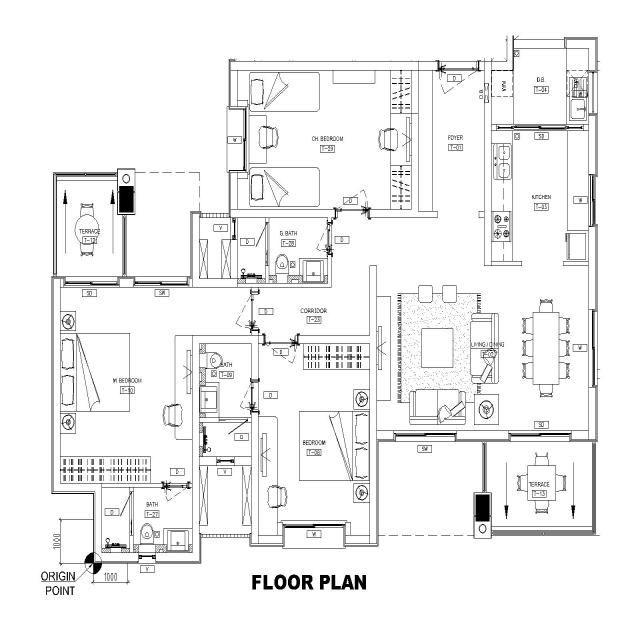Column: (118, 184, 135, 214), (474, 493, 491, 523)
Door: (435, 60, 481, 72), (333, 208, 371, 220), (262, 334, 300, 346), (250, 289, 260, 333), (250, 378, 260, 414), (264, 222, 270, 266), (129, 491, 134, 536), (327, 221, 333, 257), (162, 482, 190, 489), (218, 417, 249, 423)
Sliding Door: (496, 123, 584, 133), (508, 429, 572, 441), (63, 277, 119, 289)
Ventilator: (215, 455, 236, 467), (138, 552, 156, 564), (230, 217, 238, 241)
Window: (588, 308, 598, 388), (281, 520, 347, 530), (588, 173, 598, 229), (242, 105, 250, 173), (588, 69, 598, 117)
